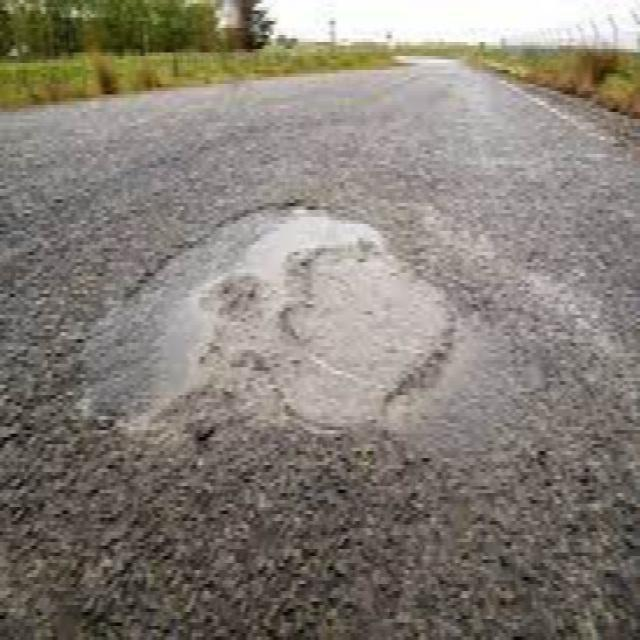Pothole: (74, 194, 503, 464)
